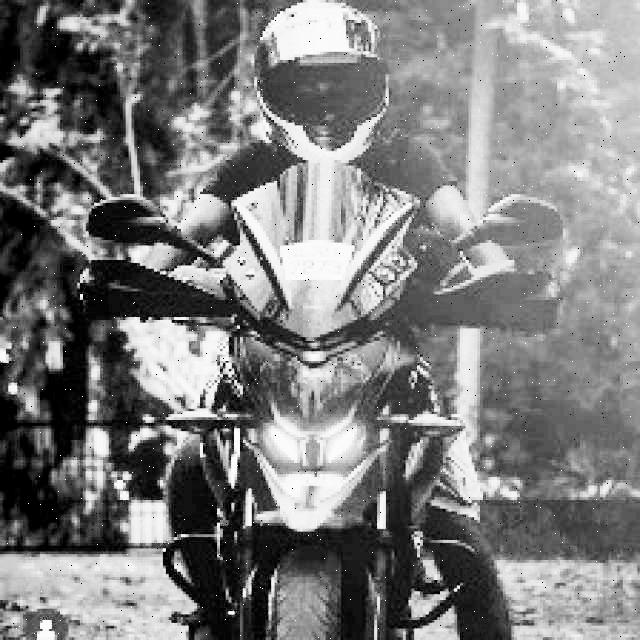Bike: (130, 195, 487, 639)
